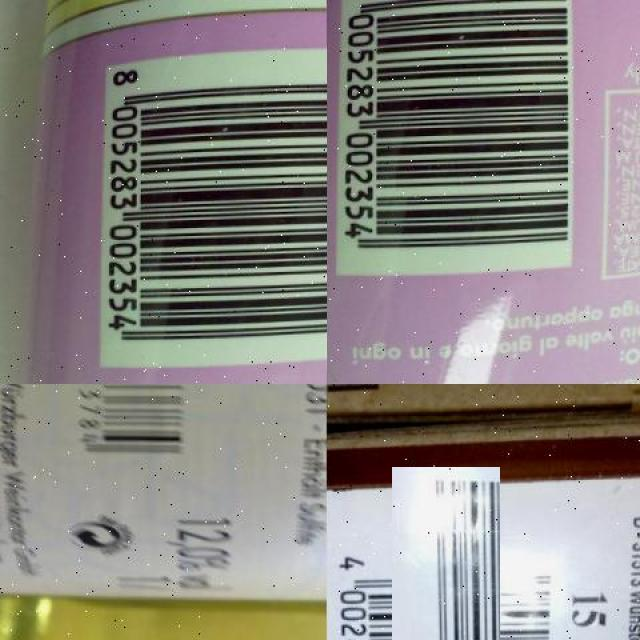Barcode: (95, 45, 326, 372), (332, 0, 581, 280), (360, 500, 533, 640), (66, 384, 206, 469)
